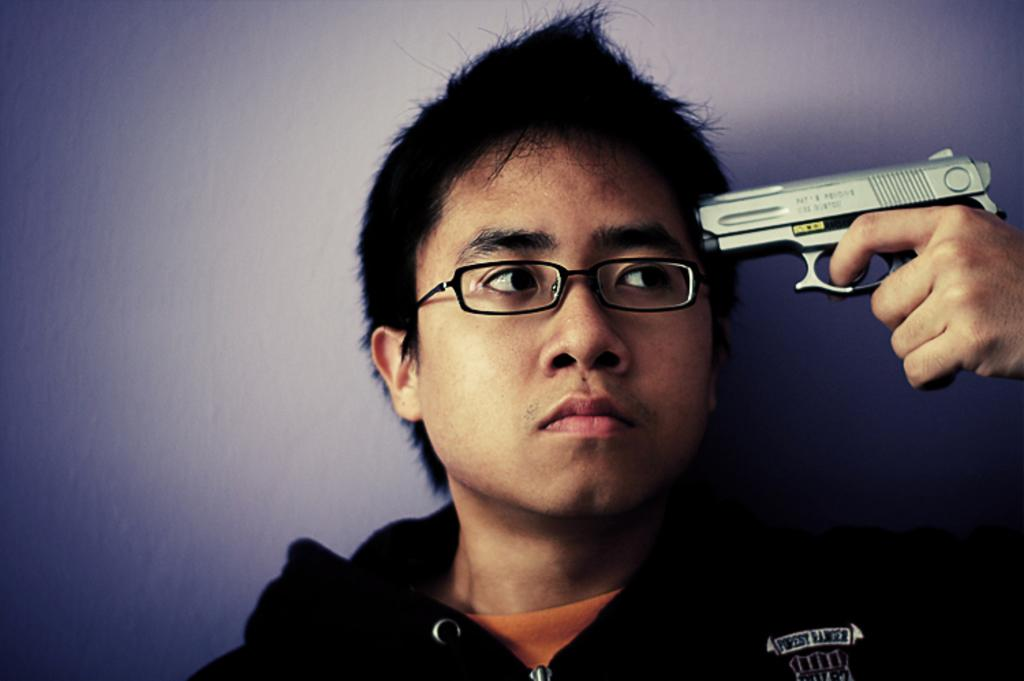Handgun: (695, 147, 1006, 296)
